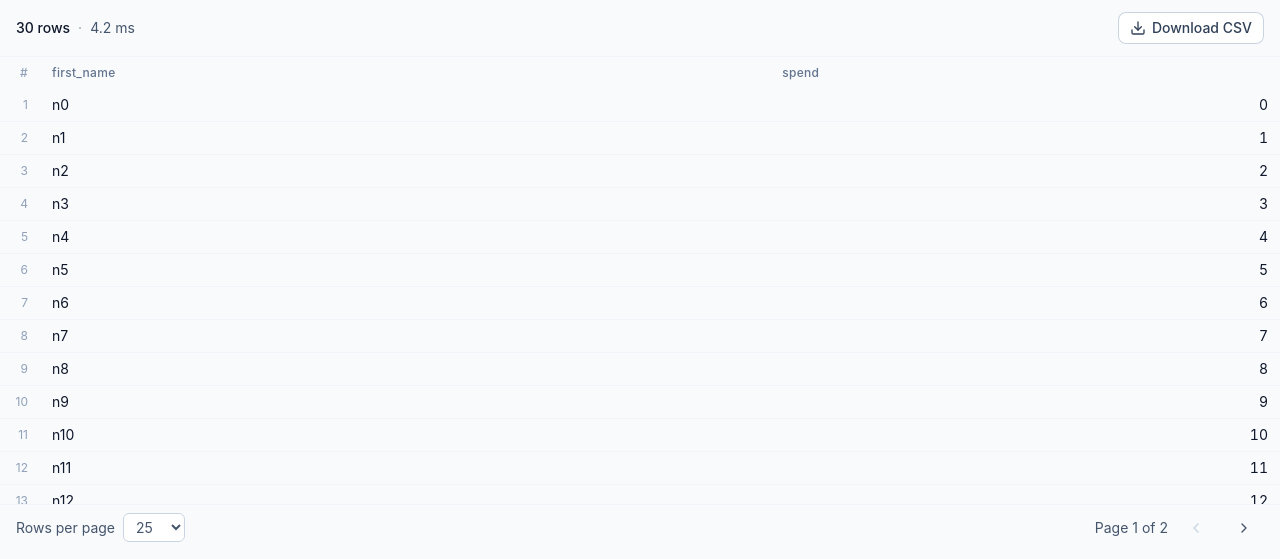
ResultsTable › paginates
The width and height of the screenshot is (1280, 559).
Check: the text with test id "page-indicator" reads "Page 1 of 2", box [1095, 518, 1168, 538]
Click the button named "Next page" at (1244,528), box [1224, 514, 1264, 542]
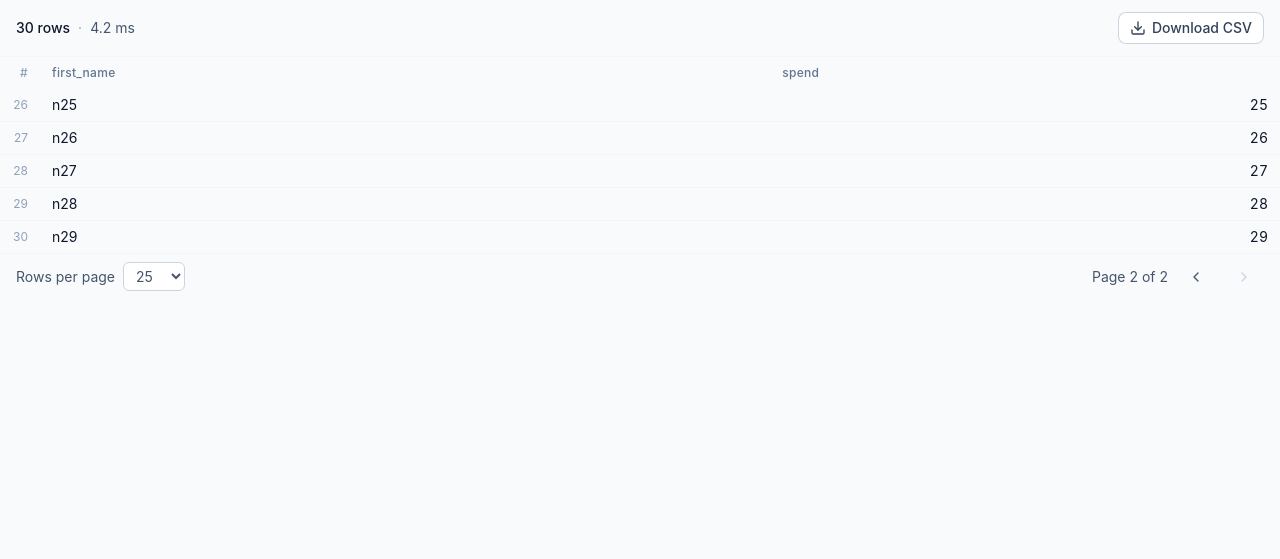
Check: the text with test id "page-indicator" reads "Page 2 of 2", box [1092, 266, 1168, 286]
